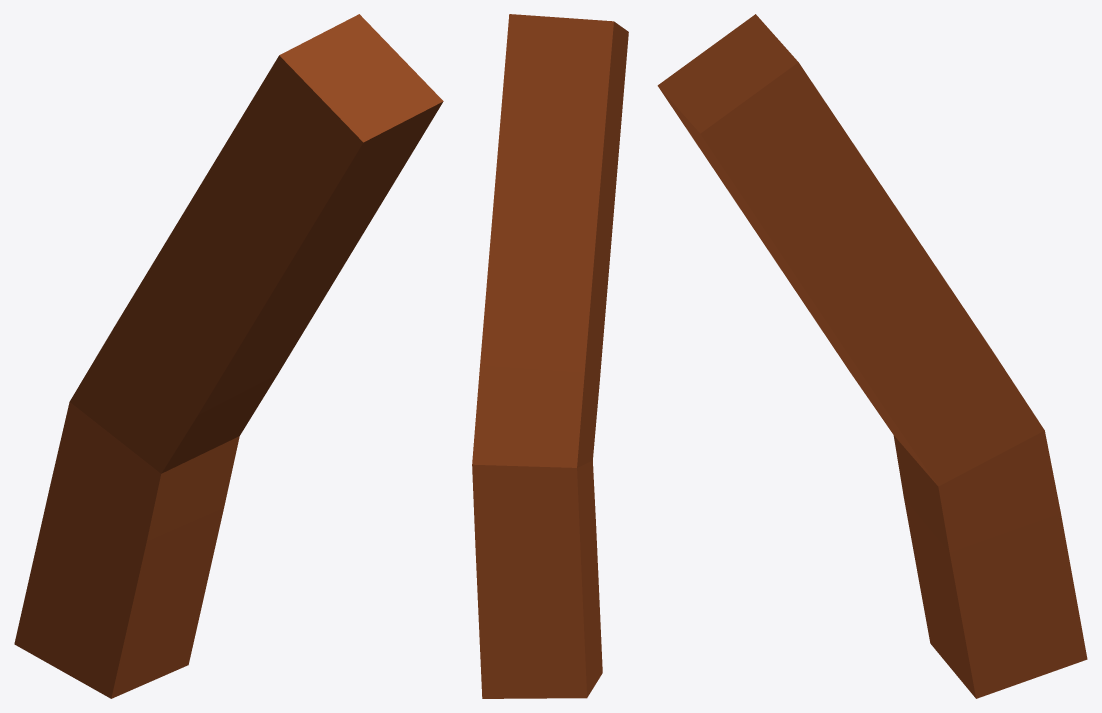
File: HalfLog2.fbx
3 views of the same model, side by side, from view 1: azimuth 30°, elevation 25°; view 2: azimuth 150°, elevation 25°; view 3: azimuth 270°, elevation 25° (orthographic). The views are drawn at different scales.
Visible parts, largest first — view 1: Cube.003; view 2: Cube.003; view 3: Cube.003.
Part boxes in pixels (left/top/right/bottom): Cube.003: left=14, top=14, right=443, bottom=698; Cube.003: left=472, top=14, right=628, bottom=698; Cube.003: left=657, top=14, right=1087, bottom=698.
Size of the model in its own units: 115 by 305 by 177.
